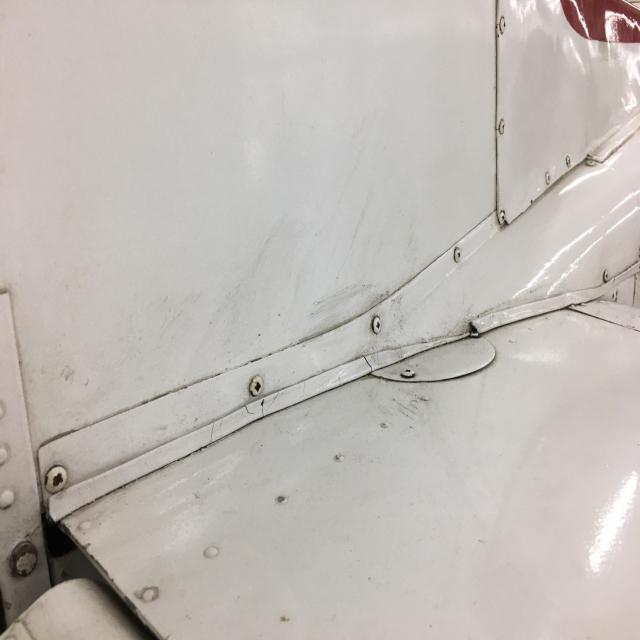Rupture: (192, 372, 284, 465), (296, 351, 374, 408)
